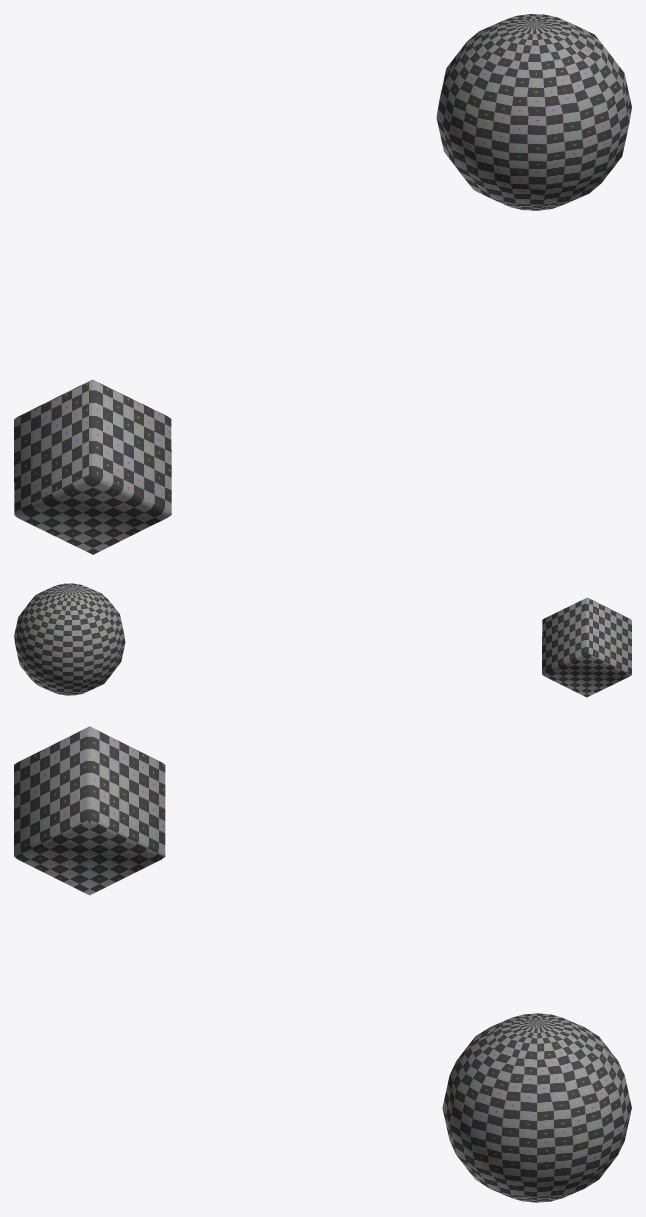
The model's file is test-world.glb.
3 views of the same model, one above another, from view 1: azimuth 30°, elevation 25°; view 2: azimuth 150°, elevation 25°; view 3: azimuth 270°, elevation 25° (orthographic). The views are drawn at different scales.
Parts seen in each view (by area): view 1: Actor, Target; view 2: Actor, Target; view 3: Actor, Target.
Part boxes in pixels (left/top/right/bottom): Actor: left=436, top=14, right=631, bottom=210; Target: left=14, top=379, right=171, bottom=554; Actor: left=14, top=583, right=125, bottom=695; Target: left=542, top=597, right=631, bottom=697; Actor: left=442, top=1013, right=631, bottom=1202; Target: left=14, top=726, right=165, bottom=895.
Size of what is drawn, in the model's own units: 3.49 by 0.7773 by 2.32.
Materials: 1 (1 with a texture image).
